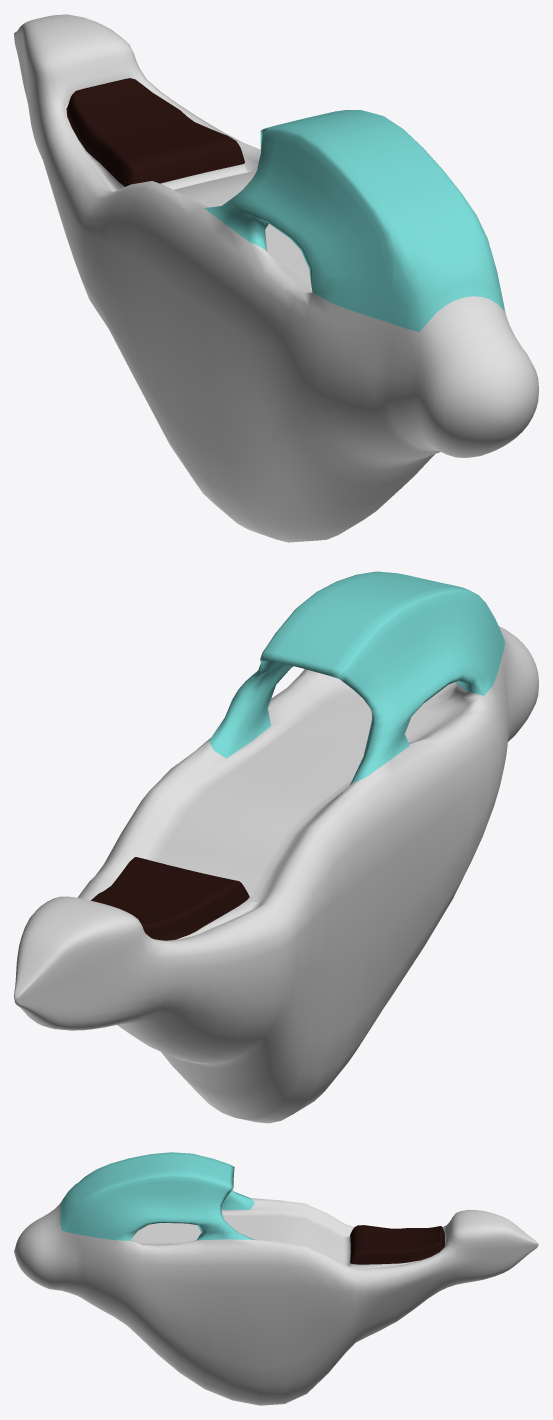
File: BikeMain_I.FBX
3 renders of one model, top to bottom at view 1: azimuth 30°, elevation 25°; view 2: azimuth 150°, elevation 25°; view 3: azimuth 270°, elevation 25°, orthographic. The views are drawn at different scales.
Visible parts, largest first — view 1: BikeBase; view 2: BikeBase; view 3: BikeBase.
Boxes of the visible parts, left/top/right/bottom form: BikeBase: left=14, top=14, right=538, bottom=542; BikeBase: left=14, top=571, right=538, bottom=1123; BikeBase: left=14, top=1152, right=538, bottom=1405.
Size of the model in its own units: 6.4 by 13.71 by 27.04.
